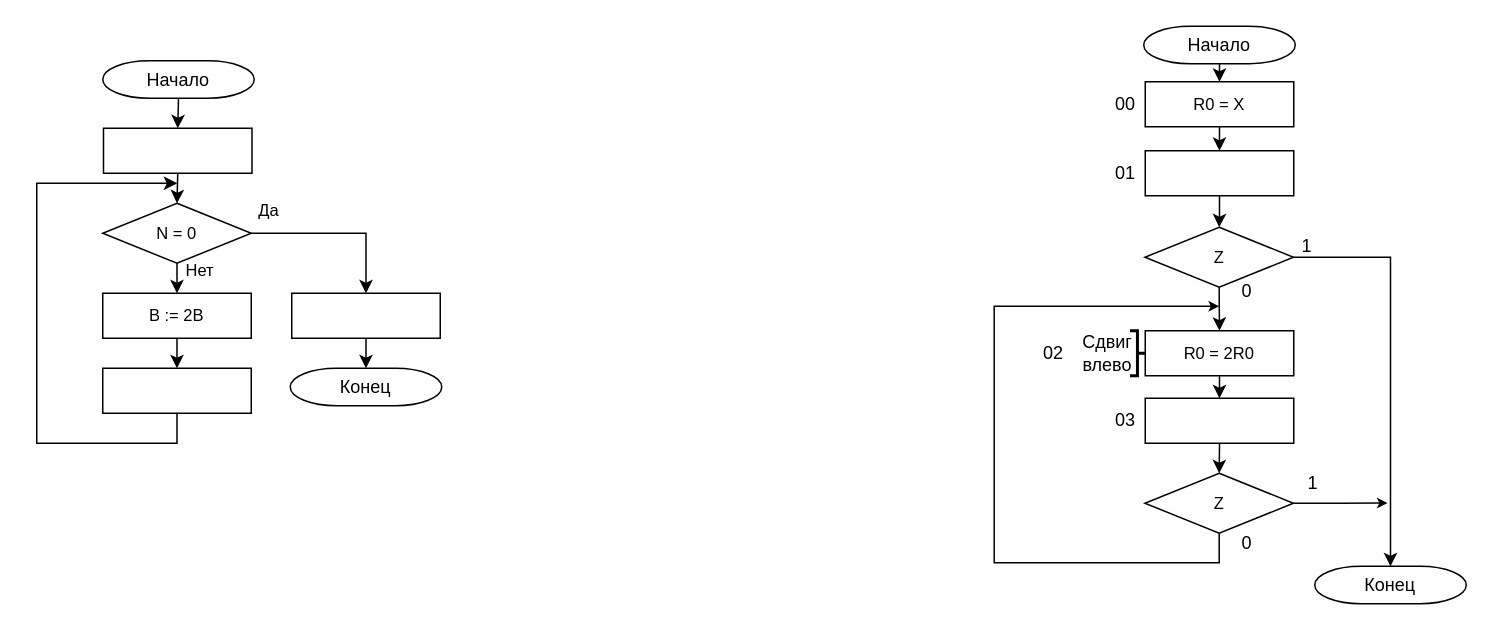
Some shapes in this 1493 by 630 pixel diagram are drawn without their labels. Here are the shapes that lost their labels. From the top down, the centre of each, then its label:
At point (177, 150): "B := X N := Y E := 0".
At point (1219, 172): "R9 = N".
At point (365, 315): "E := 1".
At point (176, 390): "N := N-1".
At point (1219, 420): "R9 = R9-1".
